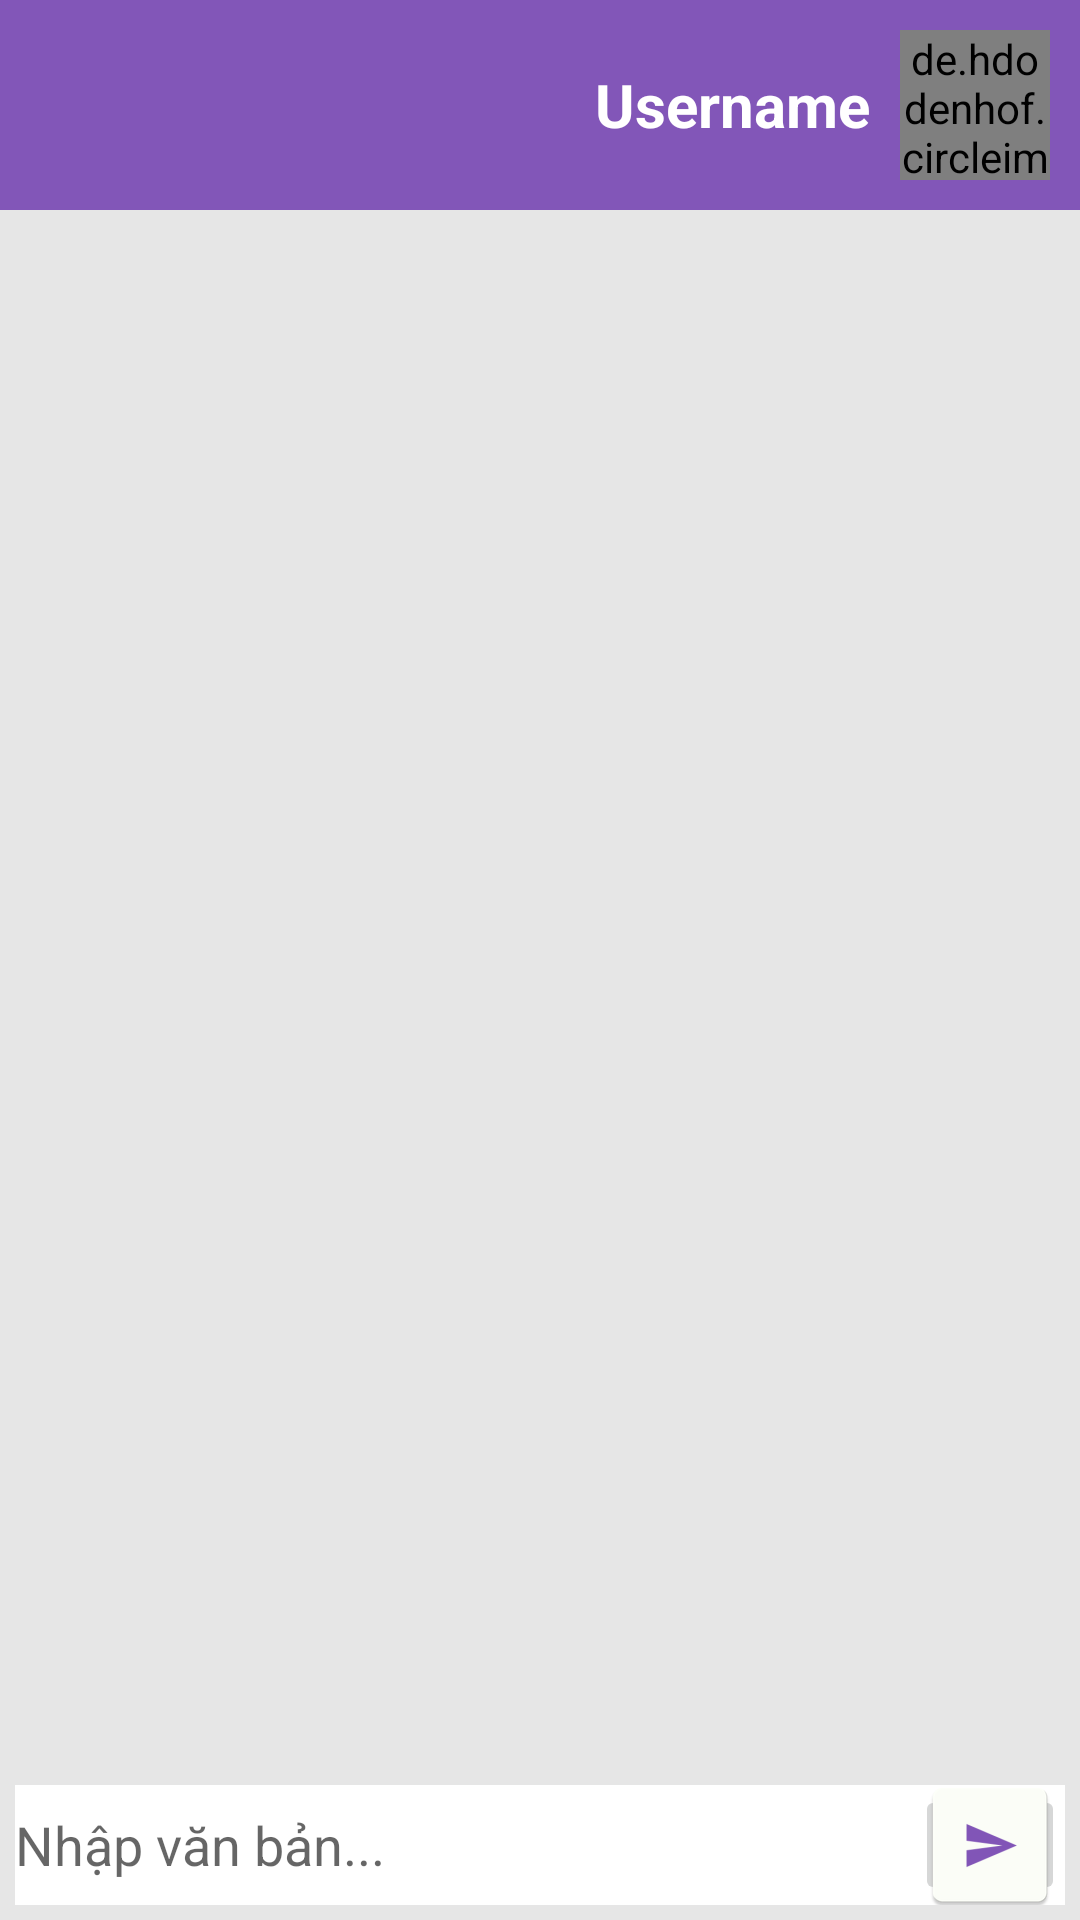

Screen size 1080 × 1920. Icon name, then its box in pixels as {"x1": x1, "y1": y1, "x2": x2, "y2": y2}:
send: {"x1": 915, "y1": 1785, "x2": 1065, "y2": 1905}
